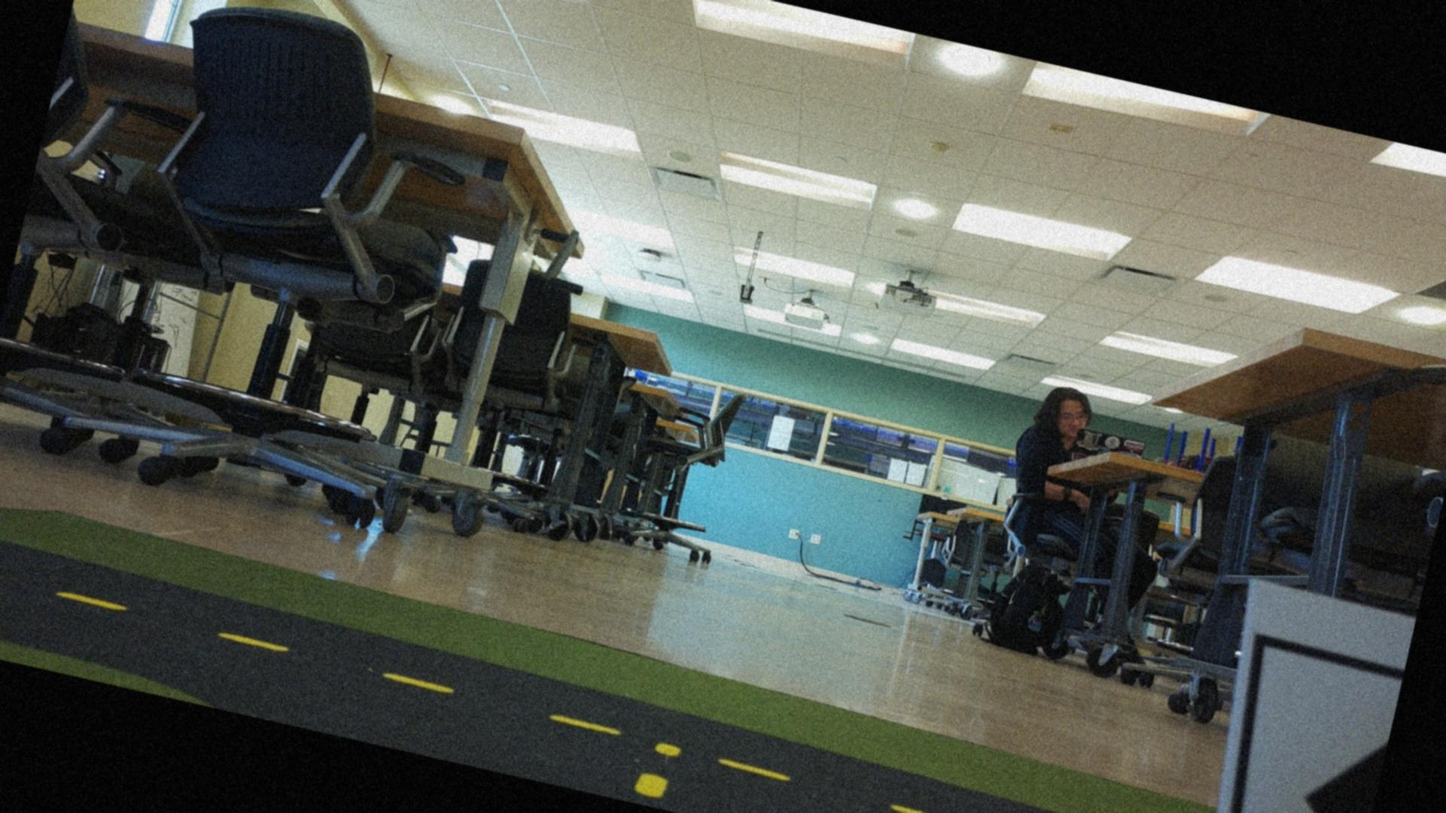yellowline: (0, 548, 1150, 812)
